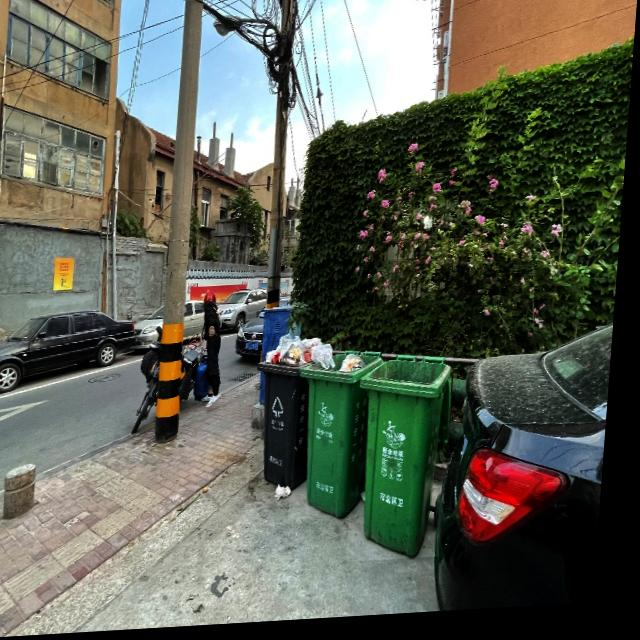garbage_bin: (355, 357, 460, 567)
overflow: (297, 350, 389, 524), (256, 334, 339, 497)
